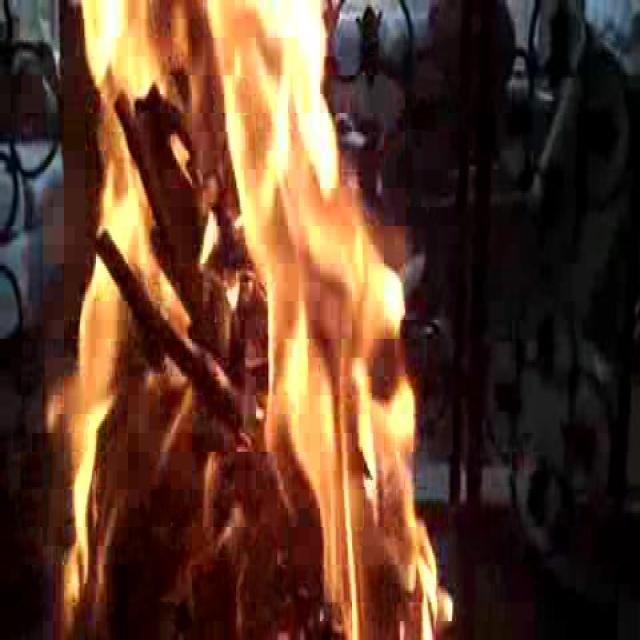Fire: (45, 2, 432, 640)
